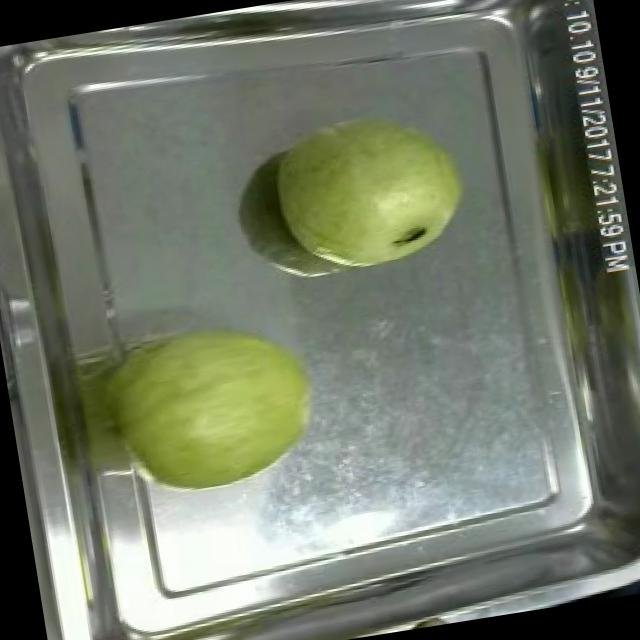Fruit: (94, 300, 338, 514), (256, 90, 486, 292)
